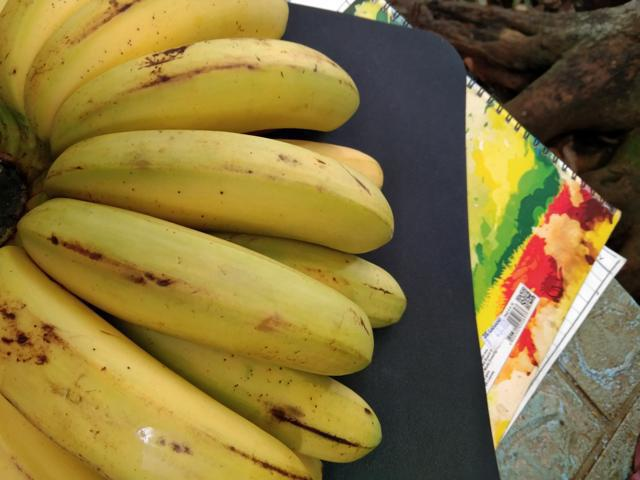freshripe: (58, 109, 396, 246)
ripe: (0, 259, 299, 476), (22, 197, 374, 369), (44, 31, 362, 154), (245, 335, 384, 459)
